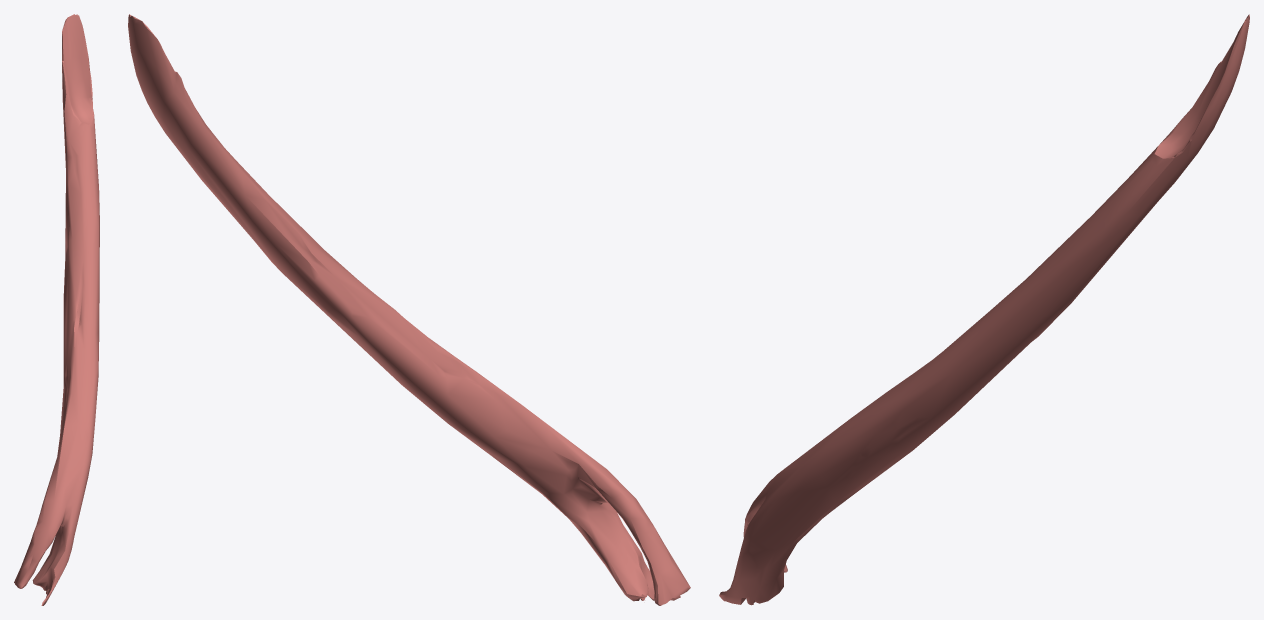
File: fma45827_fj1576.glb
The picture shows the model from 3 angles, left to right: view 1: azimuth 30°, elevation 25°; view 2: azimuth 150°, elevation 25°; view 3: azimuth 270°, elevation 25°; orthographic projection. The views are drawn at different scales.
Parts seen in each view (by area): view 1: FMA45827_FJ1576; view 2: FMA45827_FJ1576; view 3: FMA45827_FJ1576.
Boxes of the visible parts, x1,y1,x2,y2 form: FMA45827_FJ1576: (14,14,99,605); FMA45827_FJ1576: (128,14,690,605); FMA45827_FJ1576: (719,14,1249,605).
Size of the model in its own units: 0.0304 by 0.0604 by 0.0394.
